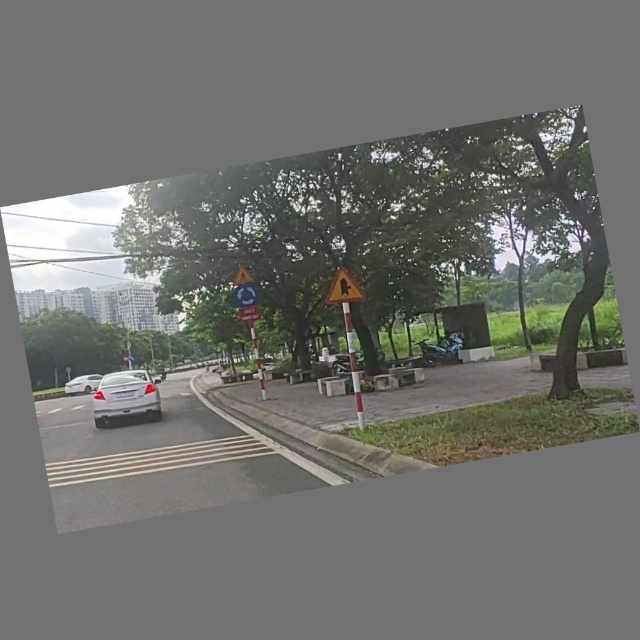P.102: (122, 355, 130, 363)
R.302a: (129, 355, 137, 363)
R.303: (233, 286, 262, 310)
W.207: (317, 264, 367, 308)
W.224: (230, 263, 255, 288)
